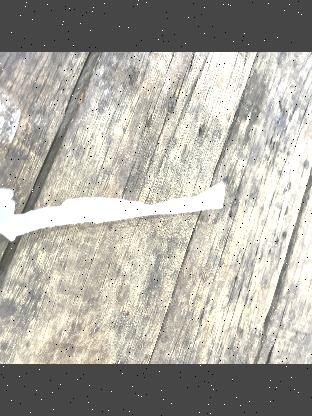Others: (0, 168, 230, 244), (0, 93, 20, 145)
